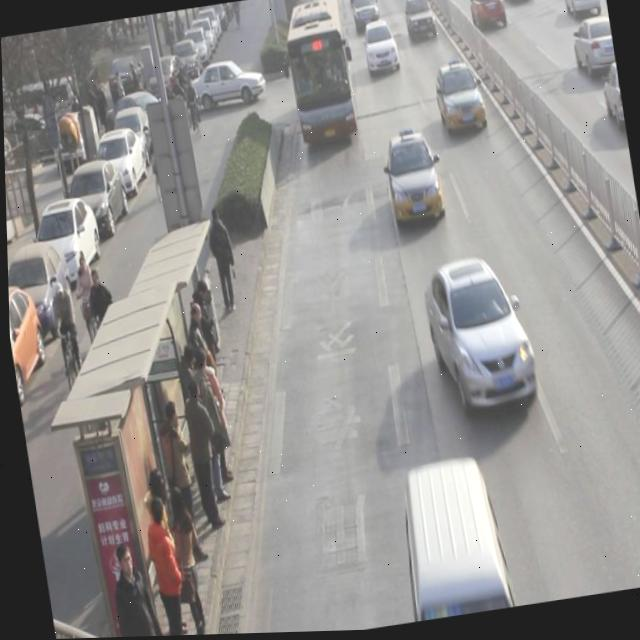car: (418, 255, 538, 419), (380, 128, 445, 228), (432, 60, 487, 138), (569, 15, 616, 83), (361, 20, 401, 79), (599, 64, 625, 138), (402, 0, 438, 45), (467, 0, 507, 37), (561, 0, 603, 25), (350, 0, 381, 32), (498, 0, 533, 5)
truck: (387, 453, 514, 624), (347, 0, 367, 5)
van: (277, 0, 359, 147)
